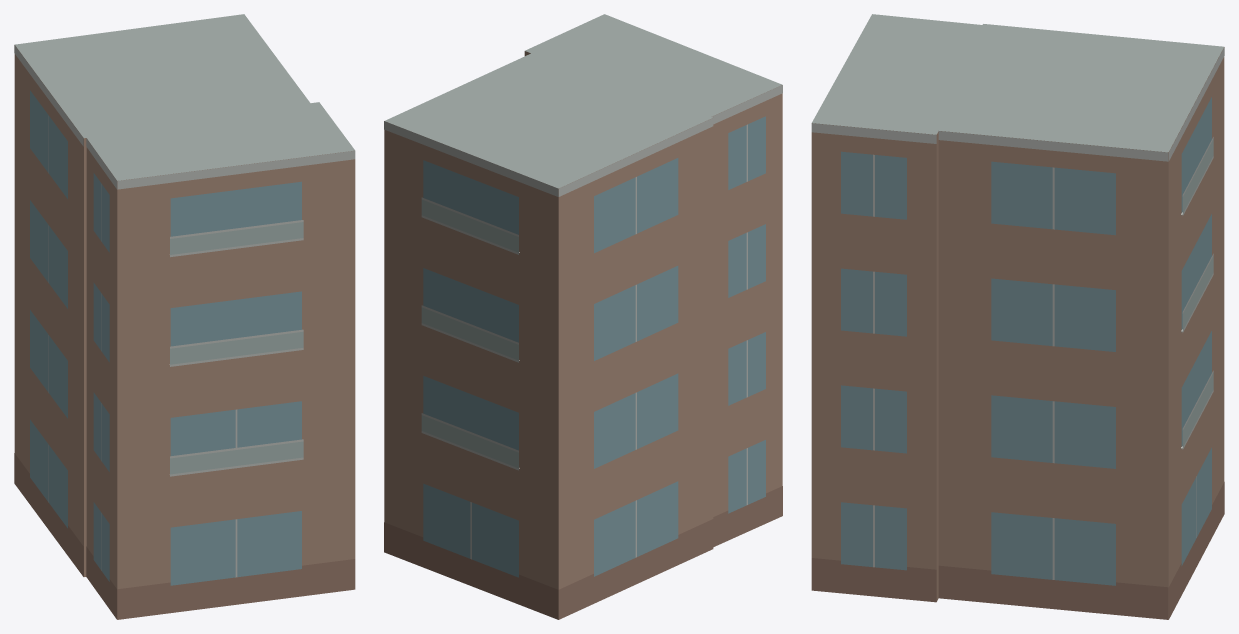
The model's file is survey-upis-32653204.glb.
3 views of the same model, side by side, from view 1: azimuth 30°, elevation 25°; view 2: azimuth 150°, elevation 25°; view 3: azimuth 270°, elevation 25° (orthographic). The views are drawn at different scales.
Visible parts, largest first — view 1: survey-upis-32653204.tmp; view 2: survey-upis-32653204.tmp; view 3: survey-upis-32653204.tmp.
Part boxes in pixels (left/top/right/bottom): survey-upis-32653204.tmp: left=14, top=14, right=355, bottom=619; survey-upis-32653204.tmp: left=384, top=14, right=782, bottom=619; survey-upis-32653204.tmp: left=811, top=14, right=1224, bottom=619.
Size of the model in its own units: 7.82 by 12.3 by 9.85.
